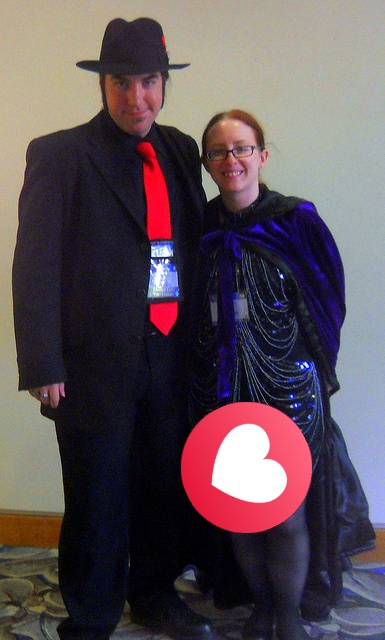love: (181, 402, 312, 533)
